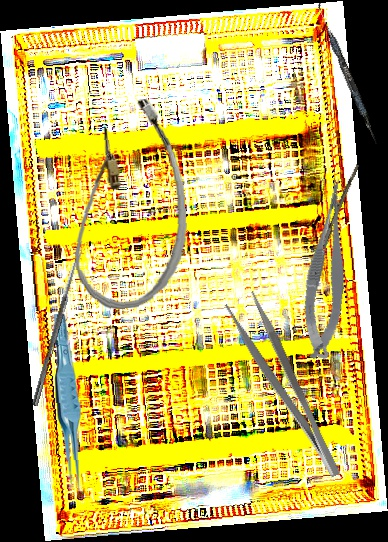Cannula: (64, 96, 193, 312)
Dressing Forceps: (223, 289, 345, 488)
Micro Scissor: (290, 174, 368, 364)
Spatula Surgical: (311, 2, 383, 145)
Surgical Spoon: (31, 248, 84, 407), (308, 163, 360, 277)
Tissue Forceps: (51, 313, 83, 492)
